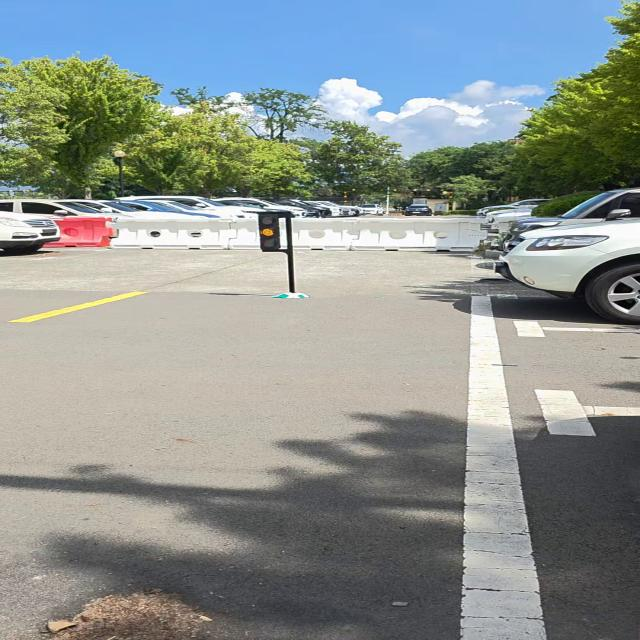yellow: (258, 214, 283, 251)
